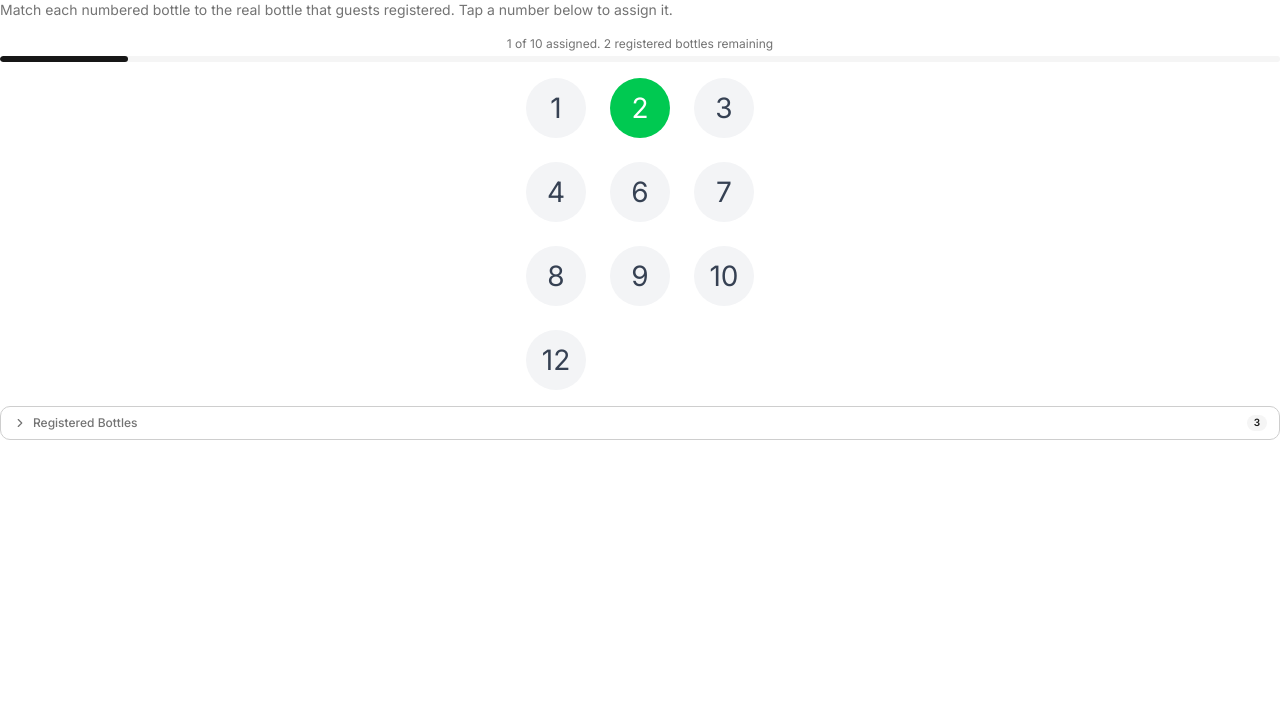
Test: AssignmentView › US2: Assignment via Bottom Sheet › opens bottom sheet when unassigned button is tapped
What coordinates should you click on to do the following:
click the button with test id "assignment-button-1"
I would click on:
 (556, 108)
Its box is [526,78,586,138].
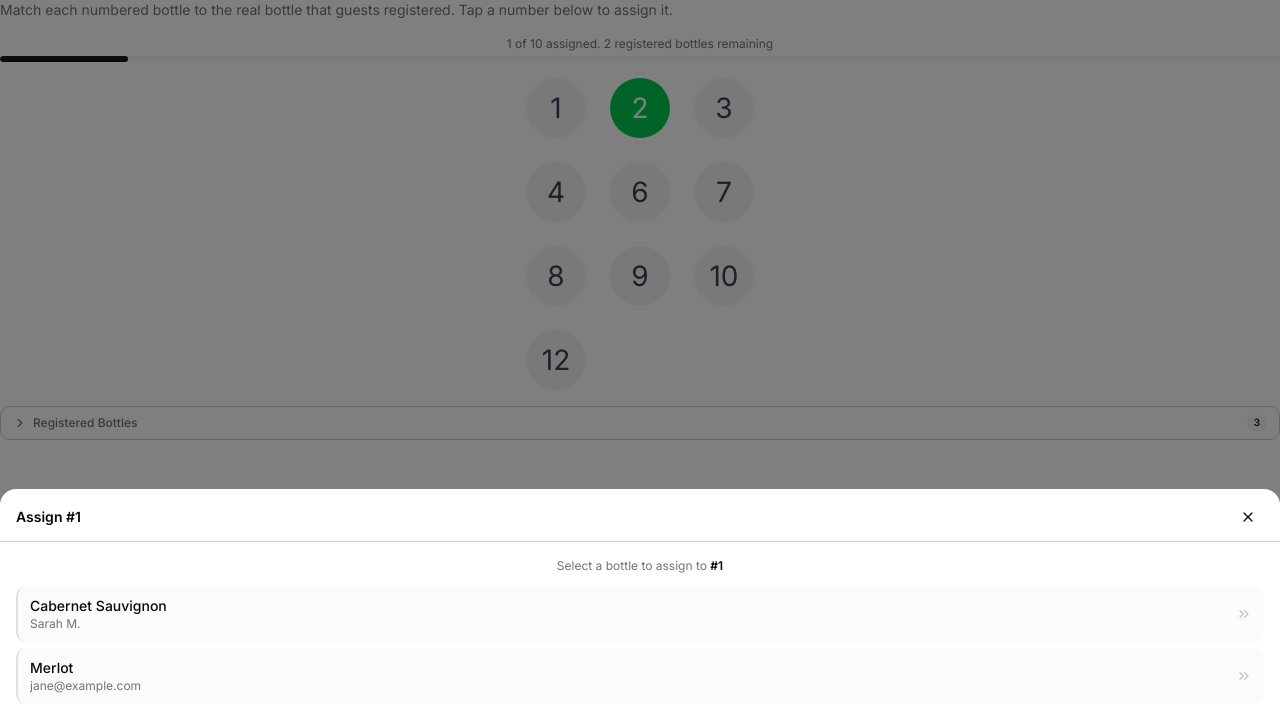
Now the dialog with test id "bottom-sheet" is shown, box [0,489,1279,719]
Now the heading "Assign #1" is shown, box [16,507,81,527]
